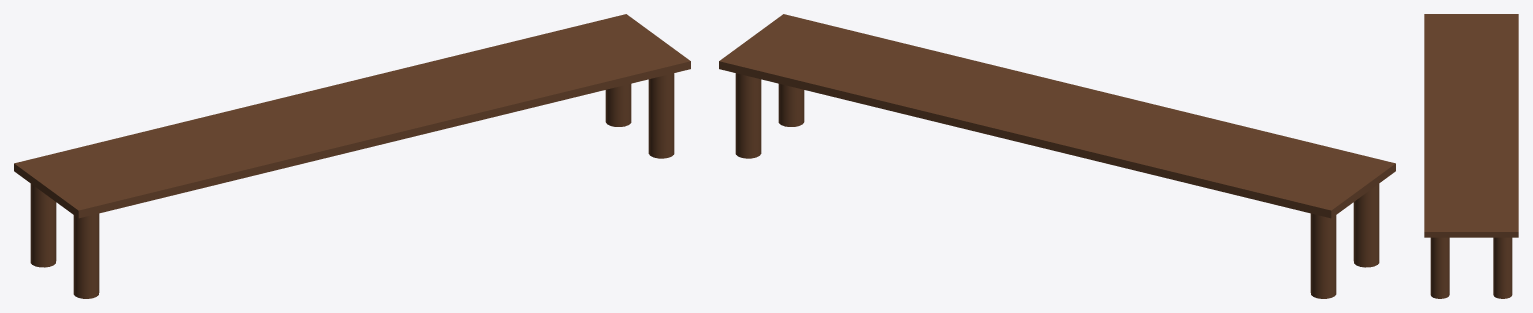
The model's file is DiningTable2.fbx.
3 renders of one model, left to right at view 1: azimuth 30°, elevation 25°; view 2: azimuth 150°, elevation 25°; view 3: azimuth 270°, elevation 25°, orthographic. The views are drawn at different scales.
Parts seen in each view (by area): view 1: DiningTable2; view 2: DiningTable2; view 3: DiningTable2.
Boxes of the visible parts, bbox=[...] form: DiningTable2: bbox=[14, 14, 690, 298]; DiningTable2: bbox=[719, 14, 1395, 298]; DiningTable2: bbox=[1424, 14, 1518, 298].
Size of the model in its own units: 373 by 55.47 by 68.02.
